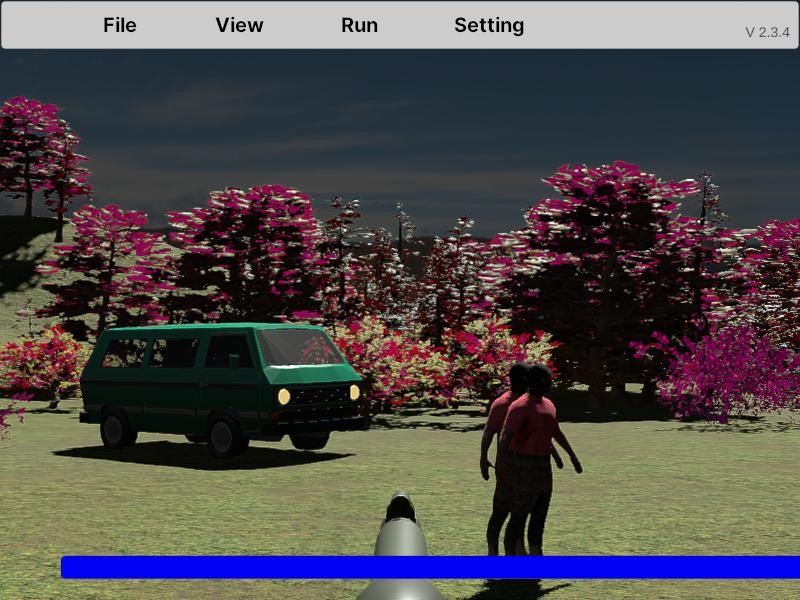Human: (496, 362, 583, 586)
car: (78, 322, 368, 459)
